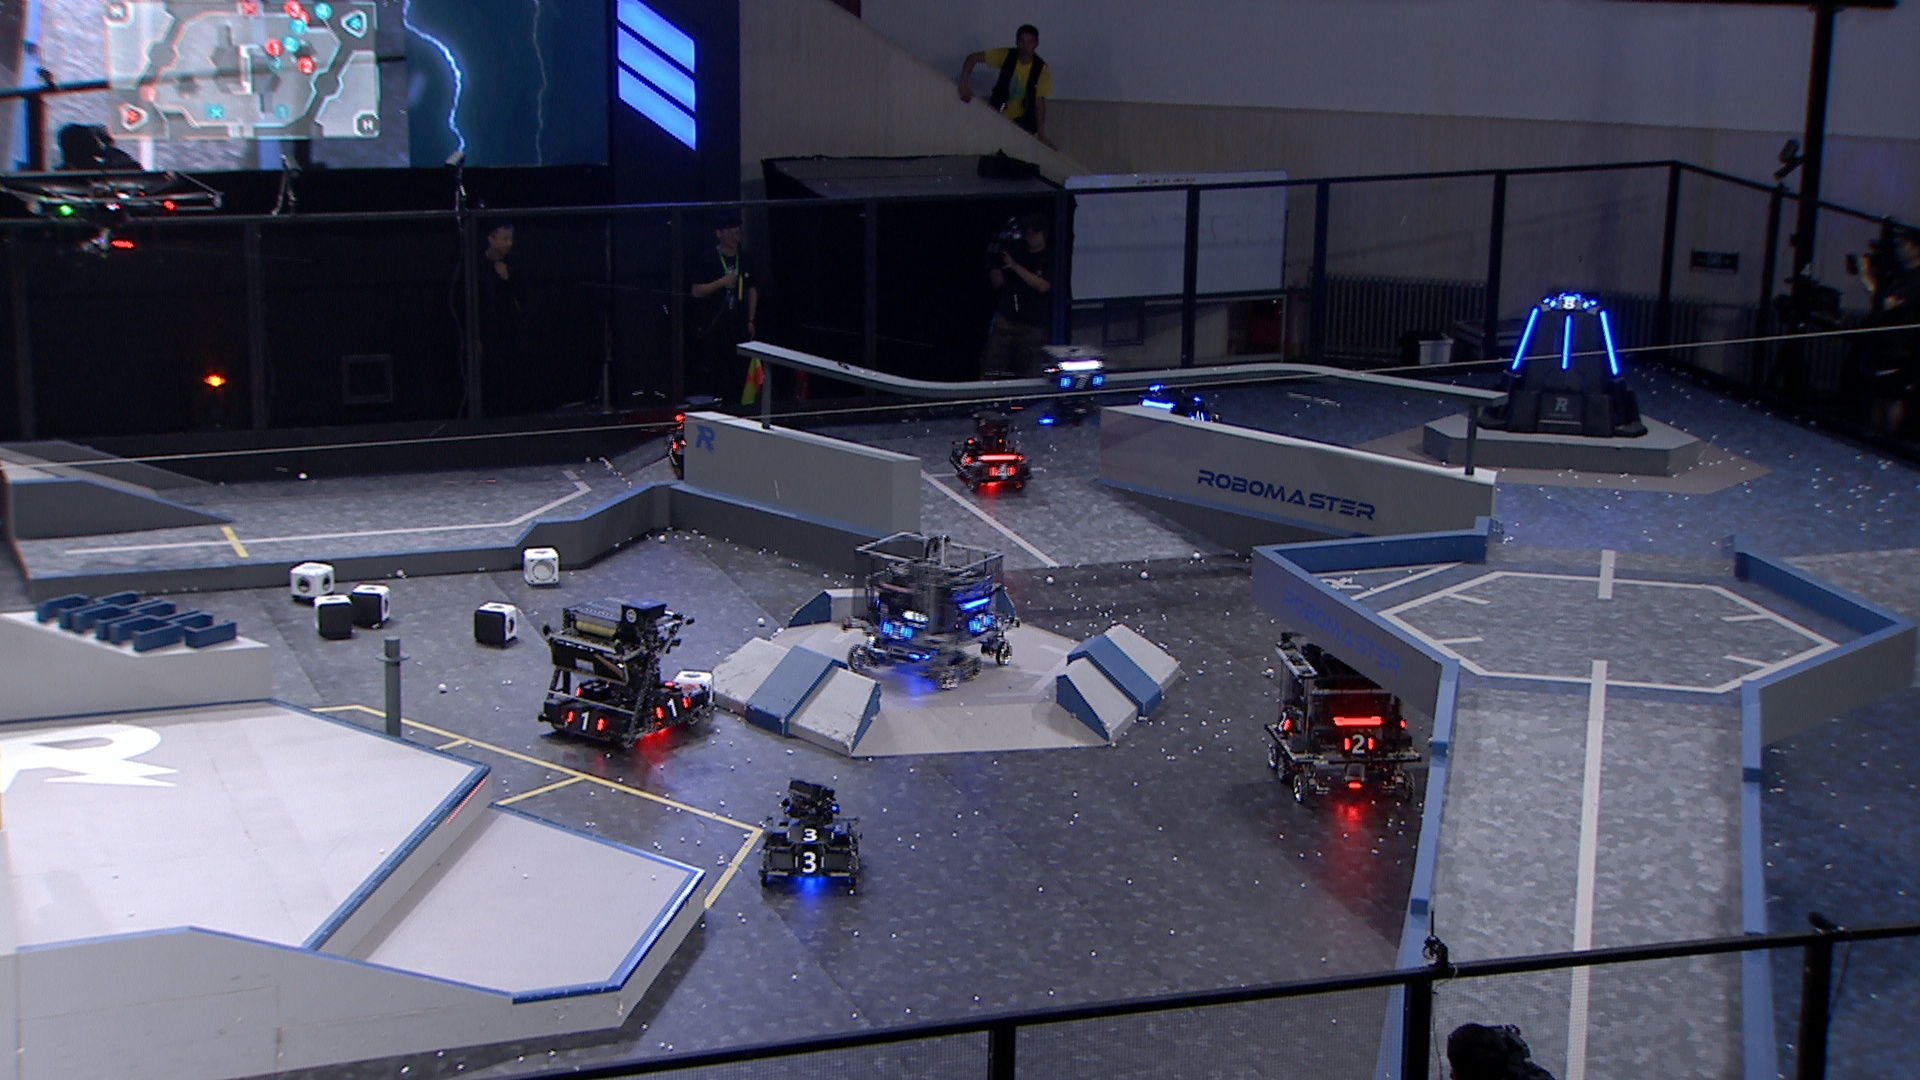armor: (1509, 305, 1542, 371), (1596, 305, 1622, 376), (1557, 313, 1577, 371), (1059, 371, 1105, 394), (564, 708, 607, 733), (1338, 731, 1378, 757), (785, 827, 839, 845), (654, 695, 692, 719), (789, 849, 827, 873), (1547, 295, 1592, 314), (880, 618, 913, 644), (986, 463, 1017, 483), (969, 612, 994, 636), (1275, 708, 1292, 736), (1187, 407, 1207, 425), (957, 446, 972, 467)
base: (1474, 291, 1654, 443)
car: (841, 527, 1022, 694), (1263, 622, 1425, 807), (534, 593, 721, 750), (754, 777, 864, 891), (665, 392, 761, 480), (1125, 375, 1221, 456), (945, 409, 1036, 495)
watcher: (1038, 339, 1110, 433)
